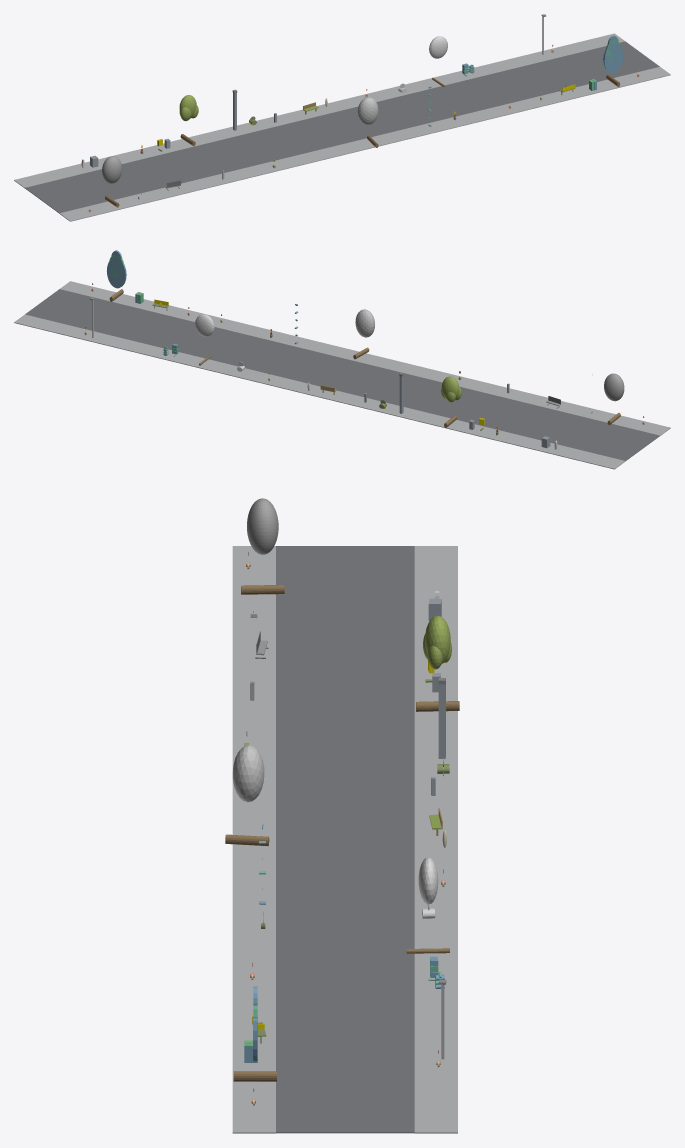
The picture shows the model from 3 angles, top to bottom: view 1: azimuth 30°, elevation 25°; view 2: azimuth 150°, elevation 25°; view 3: azimuth 270°, elevation 25°; orthographic projection. The views are drawn at different scales.
Parts seen in each view (by area): view 1: road_slab, sidewalk_left, sidewalk_right, inst_0016, inst_0014, inst_0012, inst_0013, inst_0015; view 2: road_slab, sidewalk_right, sidewalk_left, inst_0016, inst_0012, inst_0014, inst_0013, inst_0015; view 3: road_slab, sidewalk_left, sidewalk_right, inst_0014, inst_0012, inst_0013, inst_0015.
Part boxes in pixels (x1,y1,x2,y2): road_slab: (25, 41, 659, 213); sidewalk_left: (59, 67, 670, 221); sidewalk_right: (14, 33, 624, 188); inst_0016: (603, 35, 623, 86); inst_0014: (357, 97, 378, 147); inst_0012: (102, 156, 122, 207); inst_0013: (179, 95, 198, 146); inst_0015: (429, 36, 447, 87); road_slab: (25, 289, 659, 461); sidewalk_right: (14, 314, 625, 469); sidewalk_left: (60, 281, 670, 435); inst_0016: (107, 250, 126, 301); inst_0012: (604, 373, 624, 425); inst_0014: (353, 309, 374, 359); inst_0013: (441, 376, 461, 427); inst_0015: (195, 314, 214, 365); road_slab: (276, 546, 414, 1133); sidewalk_left: (232, 546, 275, 1133); sidewalk_right: (414, 546, 457, 1133); inst_0014: (225, 745, 269, 846); inst_0012: (241, 498, 284, 594); inst_0013: (416, 615, 459, 711); inst_0015: (406, 857, 449, 953).
Size of the model in its own units: 80 by 6.08 by 13.51.
